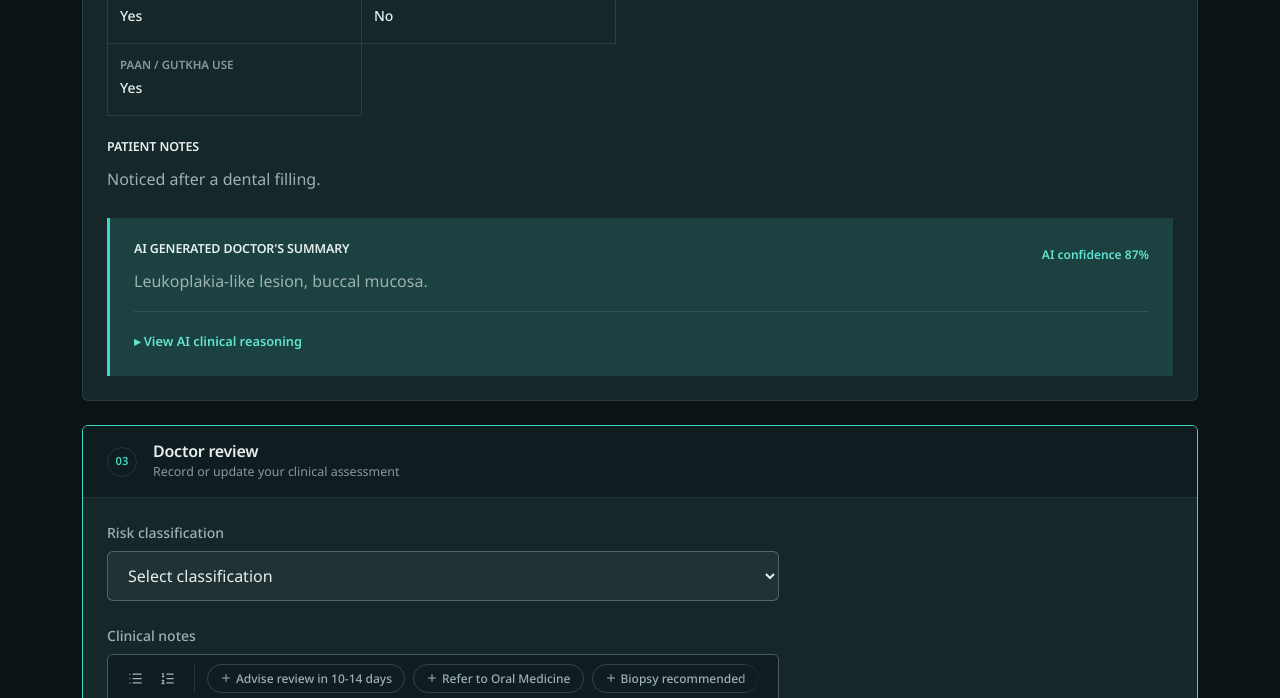
Test: the AI reasoning block › keeps the clinical reasoning collapsed until asked for
This screenshot has width=1280, height=698.
(page scrolled)
expect the text "Leukoplakia-like lesion, buccal mucosa." is shown: met, box x1=134 y1=270 x2=428 y2=292
expect the text "Homogeneous white plaque" is not shown: met
Click the button "▸ View AI clinical reasoning". click: (218, 341)
box: x1=134 y1=332 x2=302 y2=350
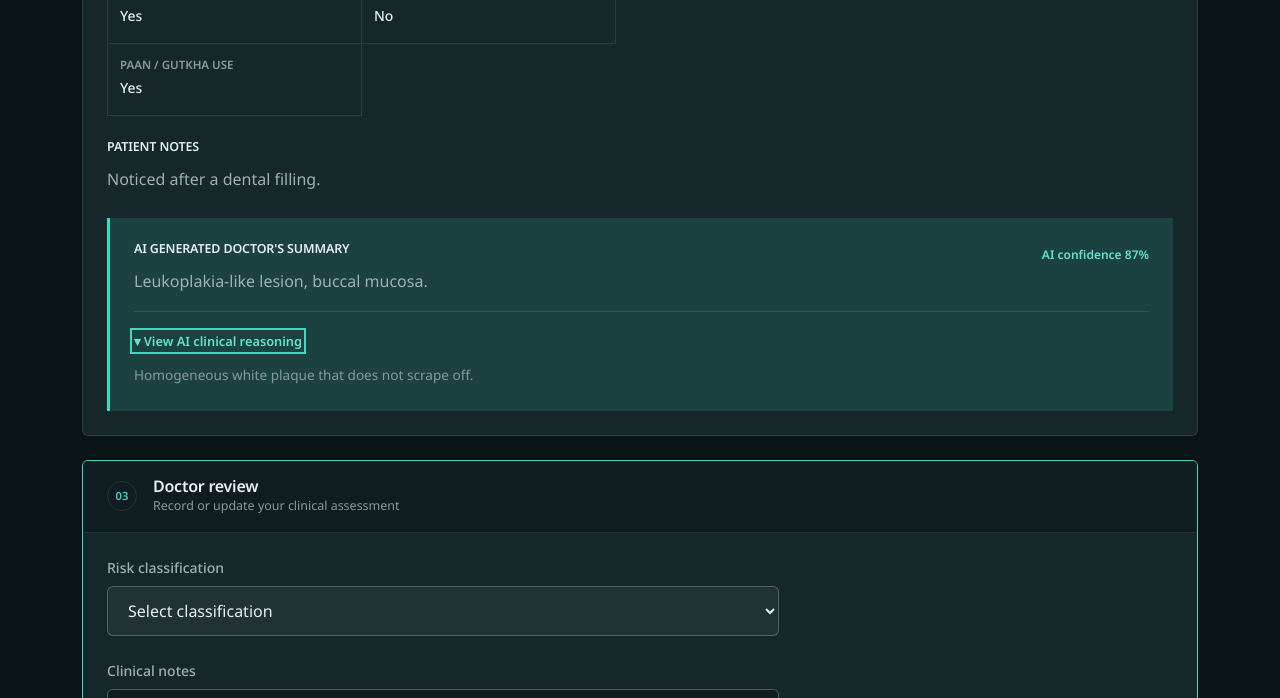
expect the text "Homogeneous white plaque that does not scrape off." is shown: met, box x1=134 y1=365 x2=473 y2=384
expect the button "▾ View AI clinical reasoning" is expanded: met
Click the button "▾ View AI clinical reasoning". click: (218, 341)
box: x1=134 y1=332 x2=302 y2=350
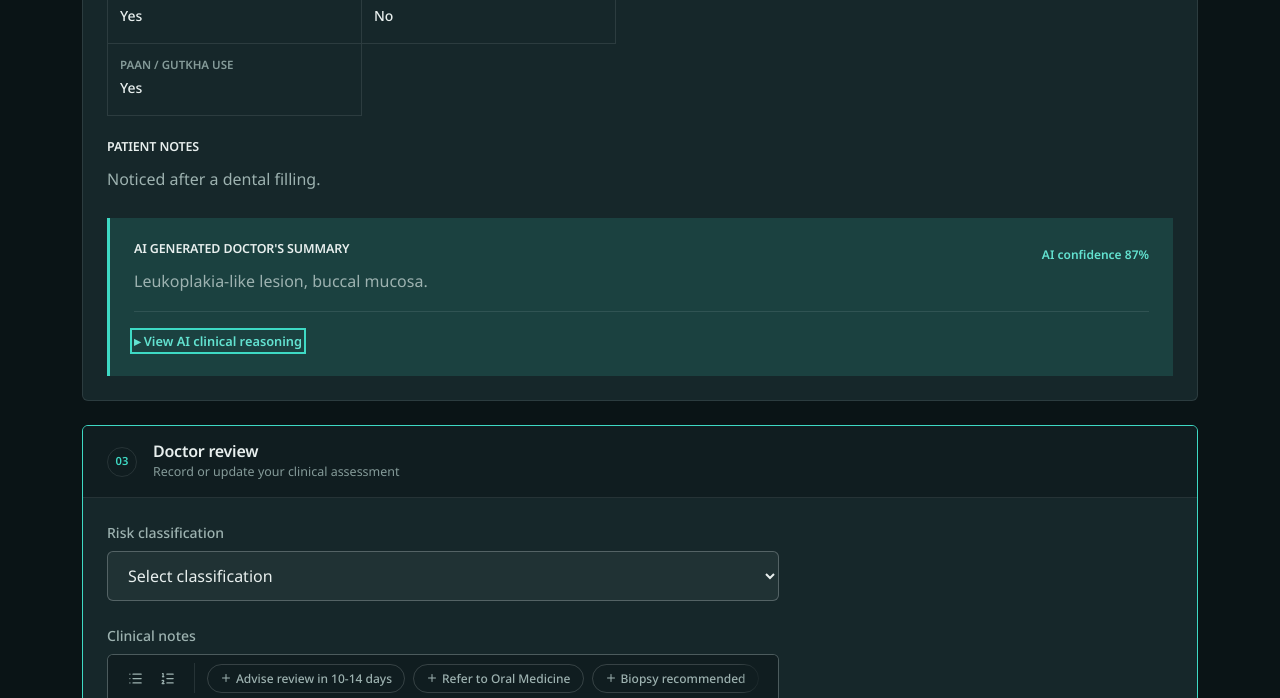
expect the text "Homogeneous white plaque" is gone: met
